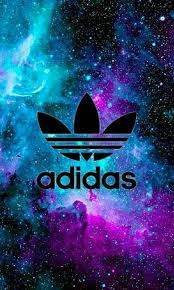adidas: (36, 91, 136, 190)
